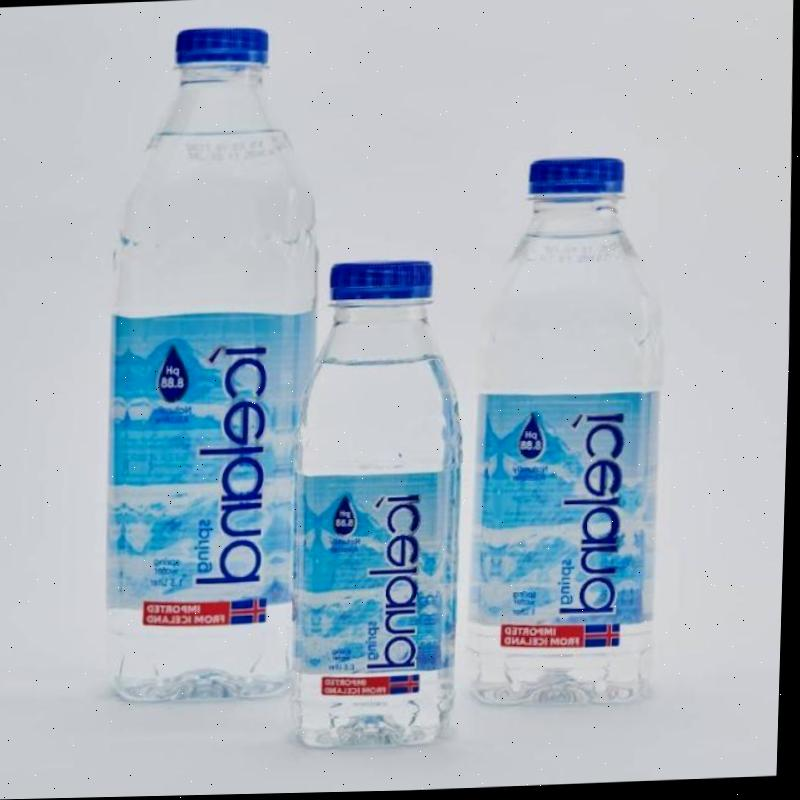botella: (96, 25, 334, 708), (462, 158, 674, 714), (291, 259, 475, 753)
